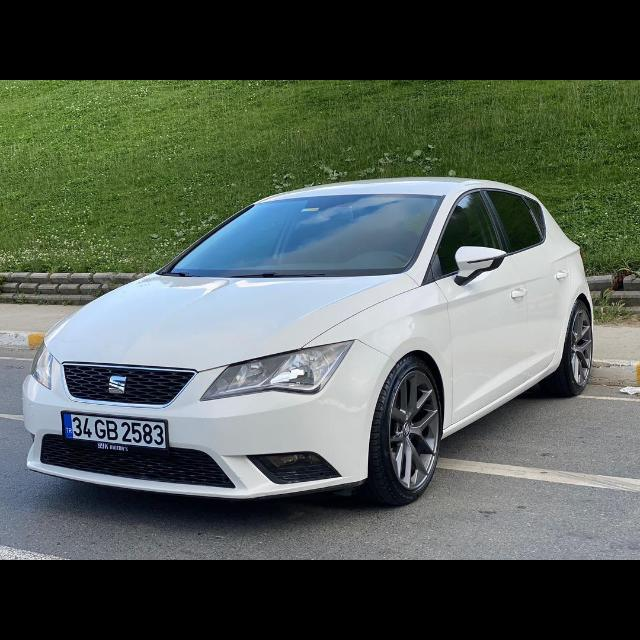Plaka: (62, 412, 166, 448)
